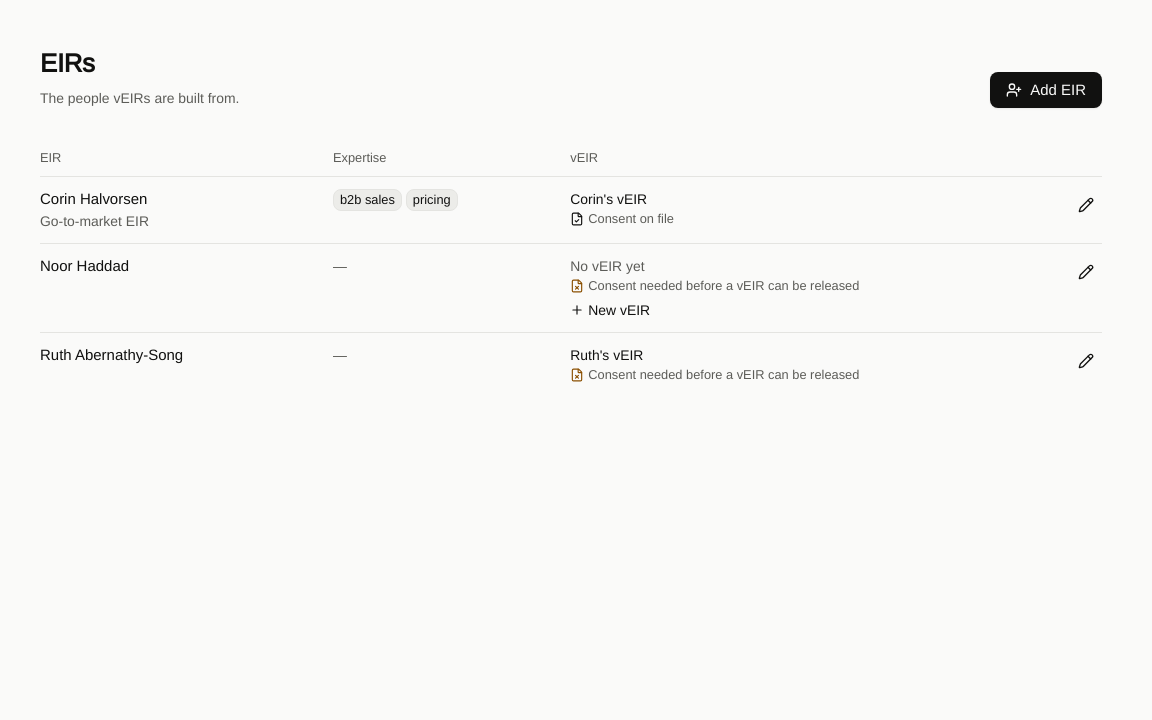
Test: EirsPage (EIR studio → EIRs) › says when no one is left to add
The width and height of the screenshot is (1152, 720).
What coordinates should you click on to do the following:
click the button "Add EIR"
I would click on:
 (1046, 90)
Its box is [990,72,1102,108].
(page scrolled)
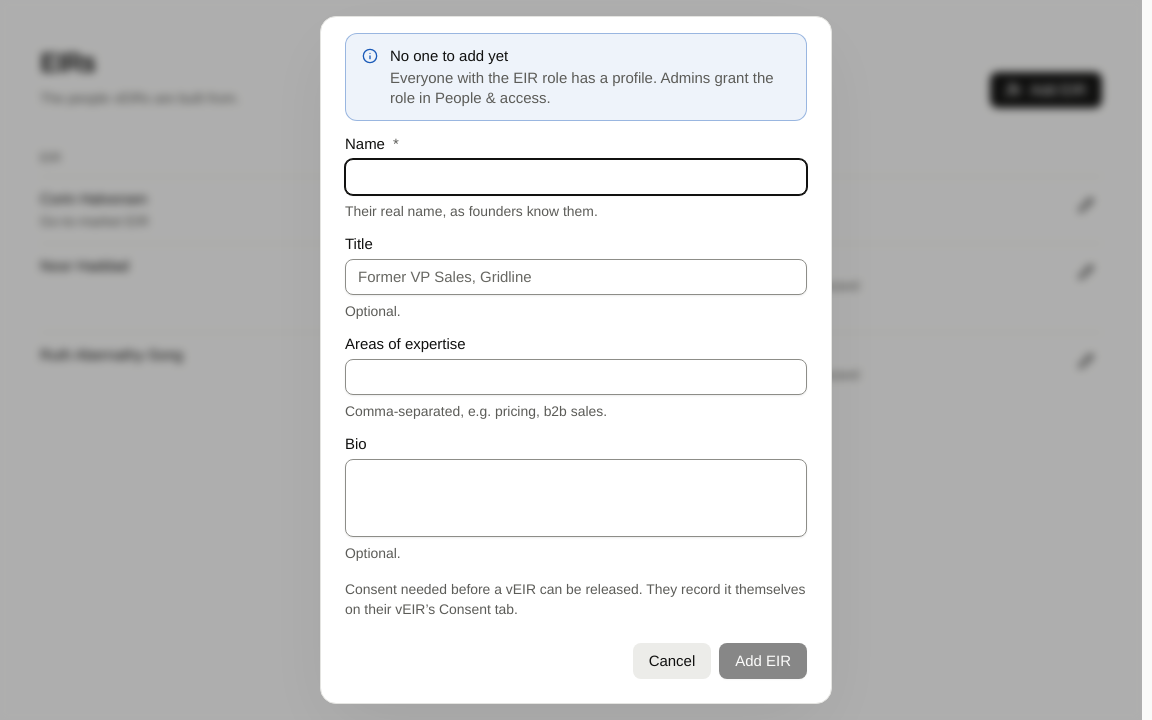
Expected: the text "No one to add yet" is shown, [390,47,508,64]
Expected: the button "Add EIR" is disabled, [719,642,807,678]
